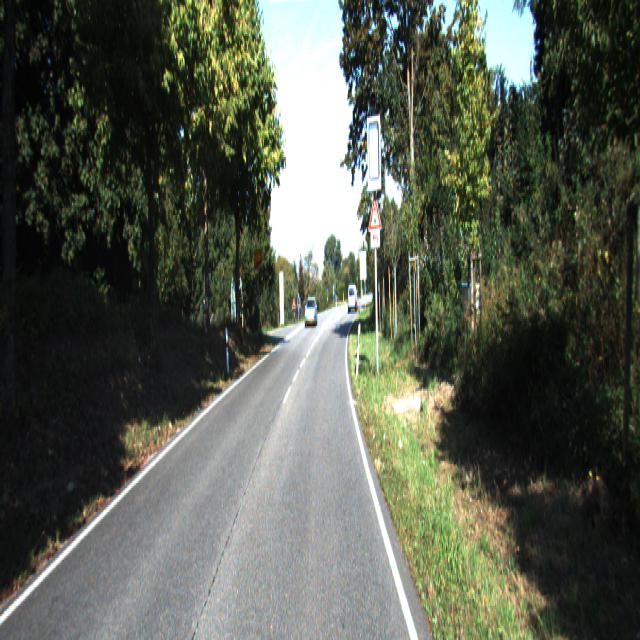Car: (304, 299, 318, 329)
